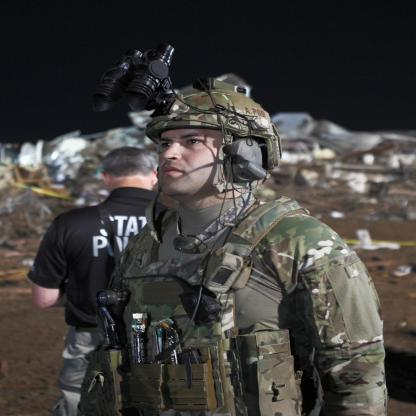Helmet: (146, 78, 283, 194)
